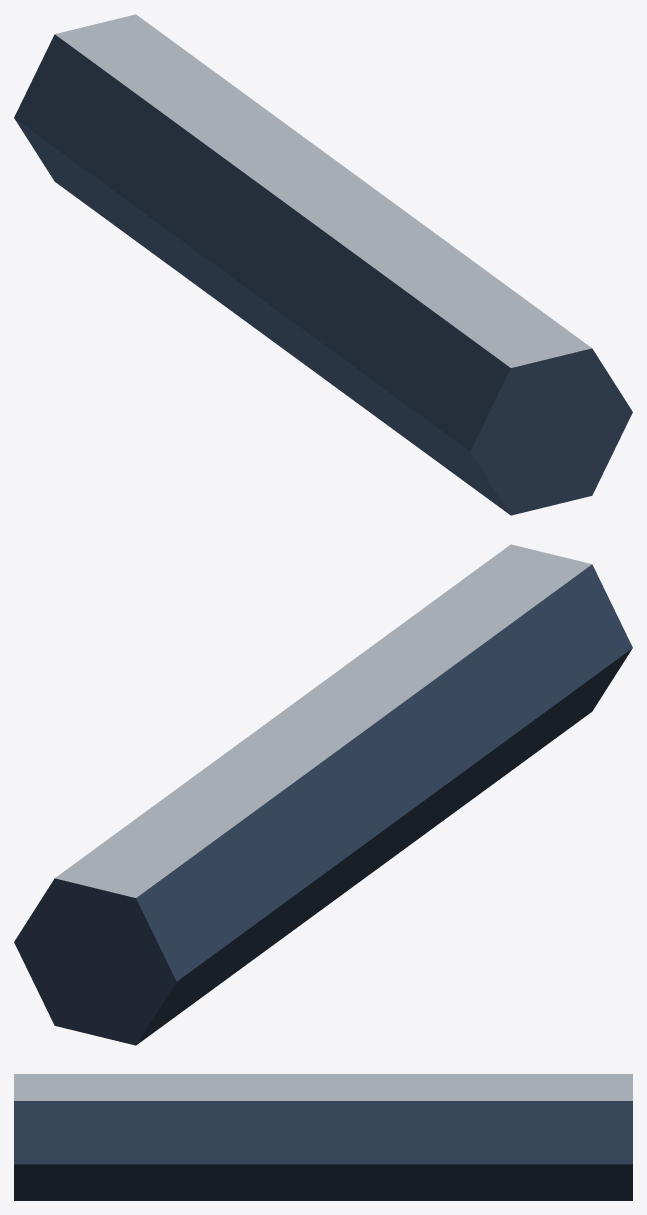
The model's file is metal.glb.
3 views of the same model, one above another, from view 1: azimuth 30°, elevation 25°; view 2: azimuth 150°, elevation 25°; view 3: azimuth 270°, elevation 25° (orthographic). The views are drawn at different scales.
Visible parts, largest first — view 1: metal; view 2: metal; view 3: metal.
Part boxes in pixels (bbox=[...]): metal: bbox=[14, 14, 632, 515]; metal: bbox=[14, 544, 632, 1045]; metal: bbox=[14, 1074, 632, 1200].
Size of the model in its own units: 0.07 by 0.0606 by 0.34.
1 material, 1 textured.
